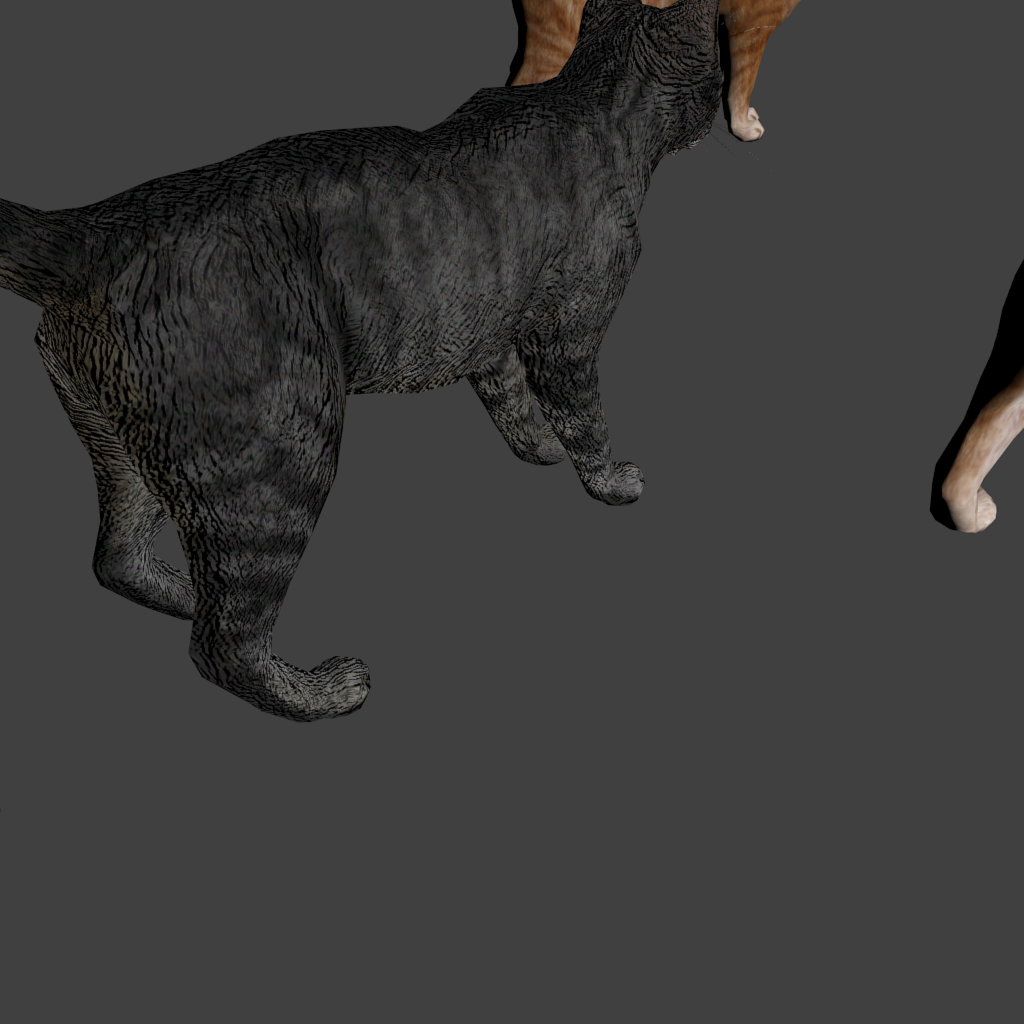Cat: (0, 0, 782, 723), (392, 0, 516, 142), (0, 187, 1, 820)
